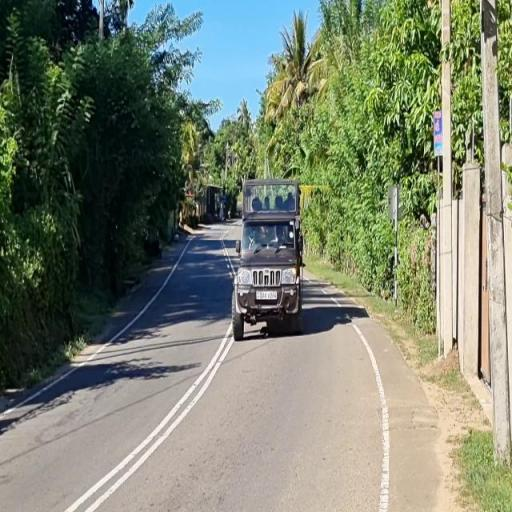double_white_line: (66, 329, 233, 512)
